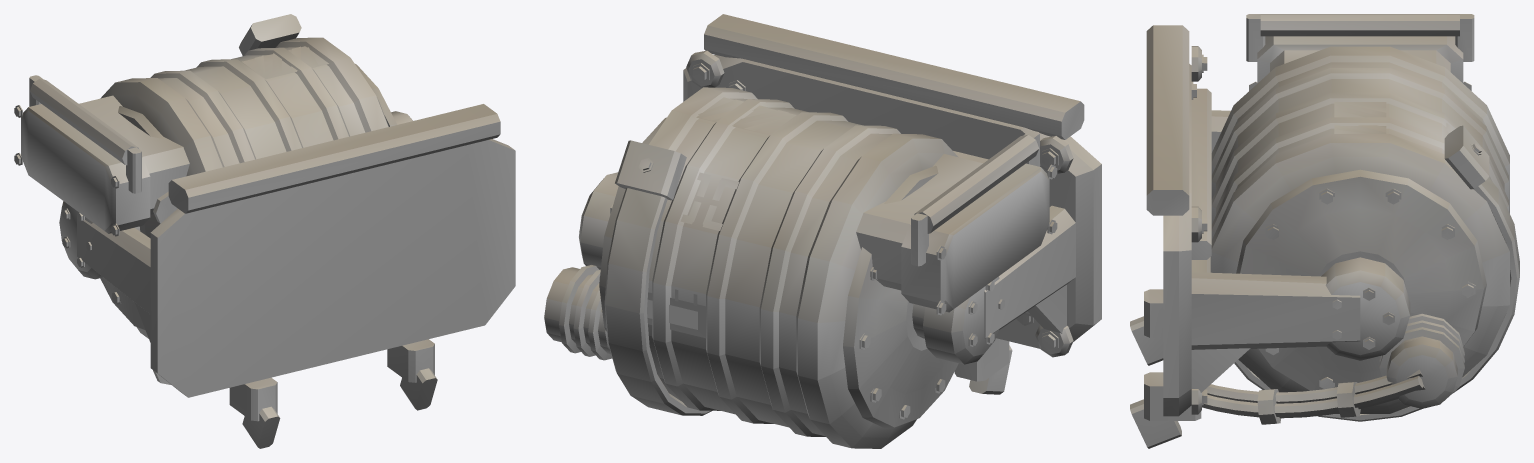
Rendered from ammo-drum-half.glb.
The picture shows the model from 3 angles, left to right: view 1: azimuth 30°, elevation 25°; view 2: azimuth 150°, elevation 25°; view 3: azimuth 270°, elevation 25°; orthographic projection. The views are drawn at different scales.
Visible parts, largest first — view 1: Body; view 2: Body; view 3: Body.
Boxes of the visible parts, x1,y1,x2,y2 form: Body: (14, 14, 515, 448); Body: (544, 14, 1101, 448); Body: (1130, 14, 1519, 448).
Size of the model in its own units: 0.9647 by 0.7206 by 0.8206.
